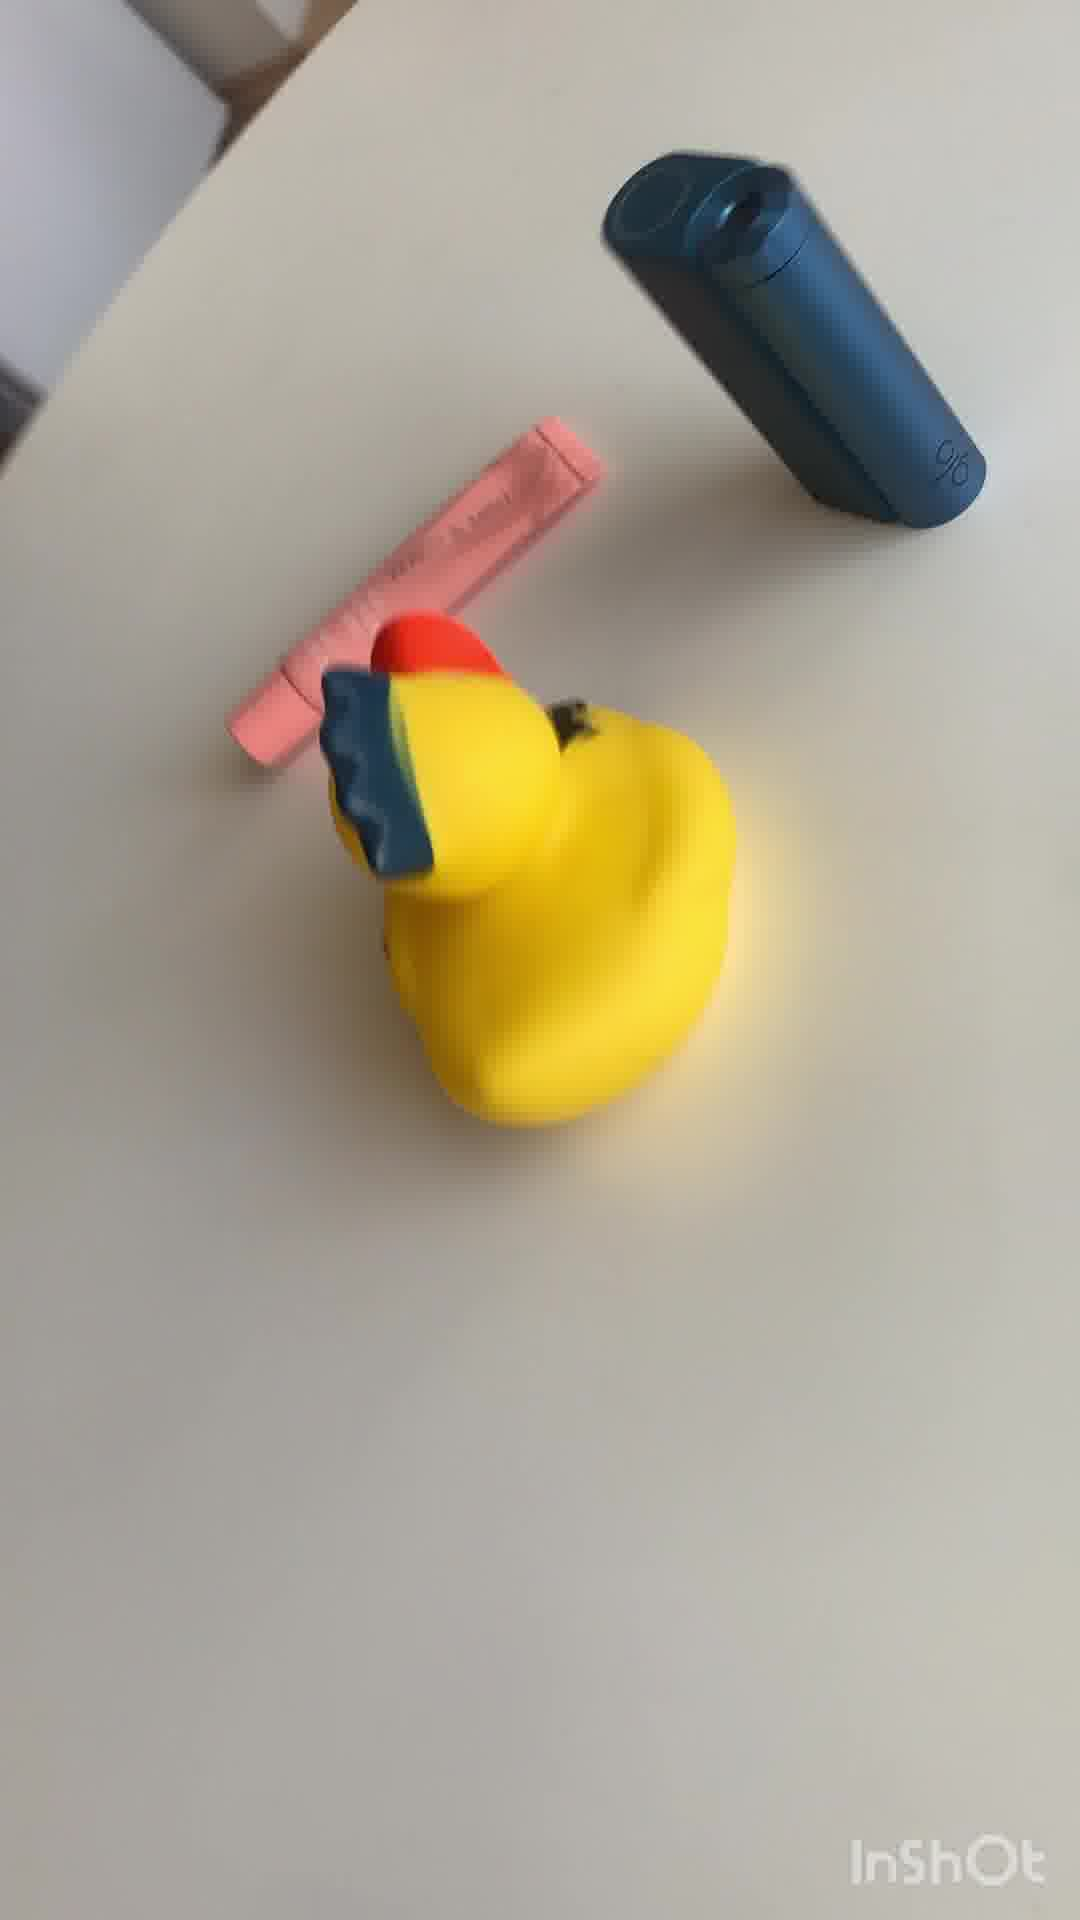duck: (323, 613, 746, 1145)
glo: (600, 149, 996, 534)
lip balm: (215, 411, 595, 785)
